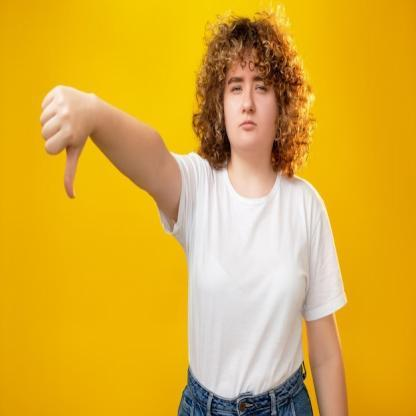stop: (41, 81, 92, 200)
